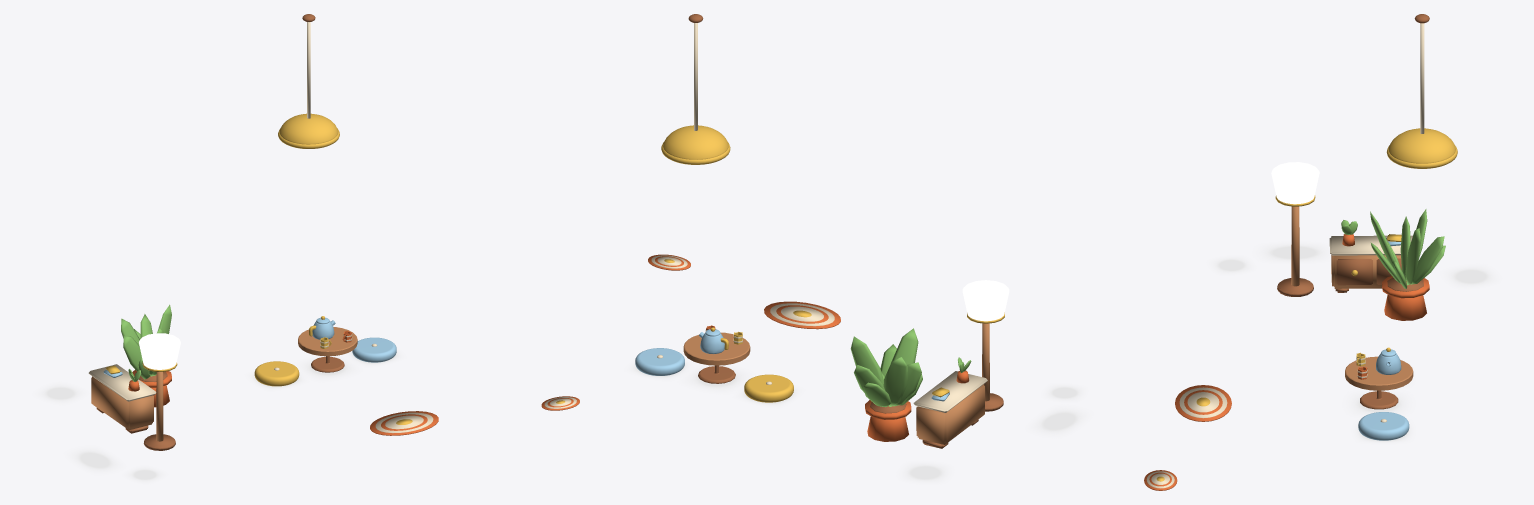
The model's file is room_base_v3_1_draco_webp.glb.
3 renders of one model, left to right at view 1: azimuth 30°, elevation 25°; view 2: azimuth 150°, elevation 25°; view 3: azimuth 270°, elevation 25°, orthographic. The views are drawn at different scales.
Visible parts, largest first — view 1: cabinet_low, floor_lamp, floor_plant_big, round_table_top, ceiling_lamp_cap, rug_front_oval, cushion_yellow_body, cushion_sky_body, shadow_cabinet_low, shadow_floor_plant_big; view 2: floor_plant_big, cabinet_low, floor_lamp, round_table_top, ceiling_lamp_cap, rug_front_oval, cushion_yellow_body, cushion_sky_body, shadow_cabinet_low, shadow_floor_plant_big, shadow_round_table, round_table_teapot_body (+1 smaller); view 3: floor_plant_big, cabinet_low, floor_lamp, round_table_top, ceiling_lamp_cap, rug_front_oval, cushion_sky_body, shadow_cabinet_low, shadow_floor_plant_big, shadow_round_table, rug_right_small, round_table_teapot_body (+3 smaller).
Part boxes in pixels (box(x1,y1,x2,y2)): cabinet_low: box(88, 364, 156, 433); floor_lamp: box(139, 333, 180, 450); floor_plant_big: box(121, 304, 171, 407); round_table_top: box(298, 327, 357, 372); ceiling_lamp_cap: box(279, 113, 338, 144); rug_front_oval: box(370, 411, 438, 435); cushion_yellow_body: box(254, 361, 299, 386); cushion_sky_body: box(352, 337, 396, 362); shadow_cabinet_low: box(71, 448, 119, 471); shadow_floor_plant_big: box(38, 384, 82, 402); floor_plant_big: box(850, 328, 922, 441); cabinet_low: box(913, 357, 987, 448); floor_lamp: box(962, 280, 1009, 411); round_table_top: box(683, 332, 750, 383); ceiling_lamp_cap: box(663, 125, 728, 159); rug_front_oval: box(764, 301, 840, 329); cushion_yellow_body: box(744, 374, 793, 402); cushion_sky_body: box(635, 348, 684, 375); shadow_cabinet_low: box(1032, 408, 1086, 434); shadow_floor_plant_big: box(902, 463, 948, 482); shadow_round_table: box(686, 366, 747, 391); round_table_teapot_body: box(699, 327, 728, 354); floor_plant_big: box(1370, 209, 1445, 320); cabinet_low: box(1329, 220, 1412, 292); floor_lamp: box(1271, 162, 1319, 296); round_table_top: box(1345, 356, 1413, 409); ceiling_lamp_cap: box(1388, 128, 1455, 163); rug_front_oval: box(1175, 385, 1231, 421); cushion_sky_body: box(1358, 412, 1409, 440); shadow_cabinet_low: box(1260, 243, 1328, 261); shadow_floor_plant_big: box(1446, 266, 1495, 286); shadow_round_table: box(1350, 392, 1408, 414); rug_right_small: box(1144, 470, 1177, 490); round_table_teapot_body: box(1376, 347, 1401, 374).
Bounding box in the file's own units: 6.32 × 4.52 × 3.96.
Materials: 15 (1 with a texture image).
